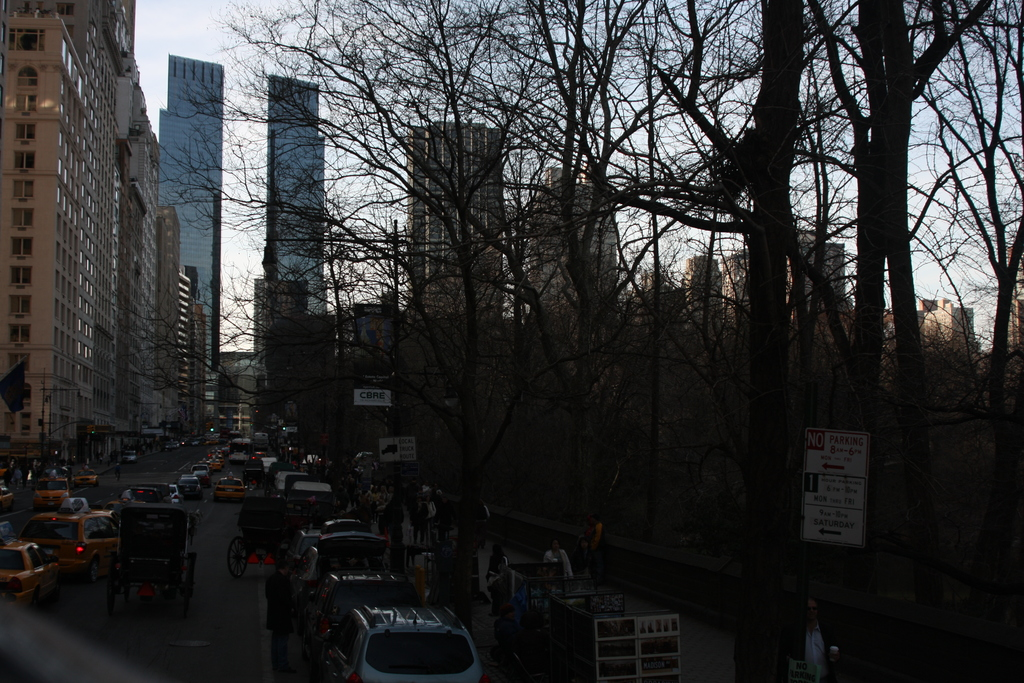Car: (174, 437, 478, 682), (0, 477, 114, 597)
